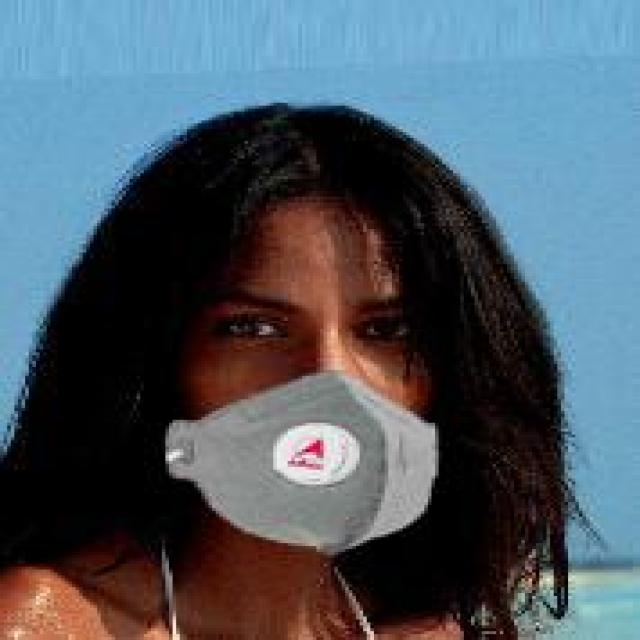mask: (93, 97, 540, 587)
